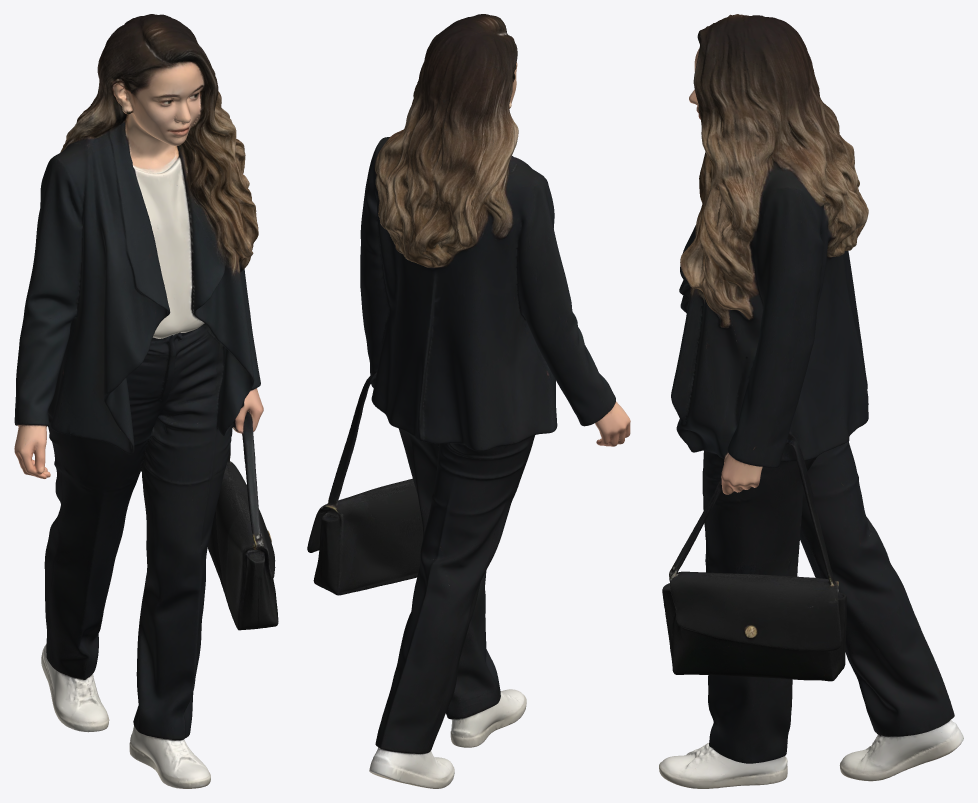
File: architect.glb
The picture shows the model from 3 angles, left to right: view 1: azimuth 30°, elevation 25°; view 2: azimuth 150°, elevation 25°; view 3: azimuth 270°, elevation 25°; orthographic projection. The views are drawn at different scales.
Visible parts, largest first — view 1: mesh_0; view 2: mesh_0; view 3: mesh_0.
Boxes of the visible parts, x1=… form: mesh_0: x1=14, y1=14, x2=278, y2=788; mesh_0: x1=307, y1=14, x2=630, y2=788; mesh_0: x1=659, y1=14, x2=963, y2=788.
Bounding box in the file's own units: 0.7491 × 1.9 × 0.6884.
Materials: 1 (1 with a texture image).
